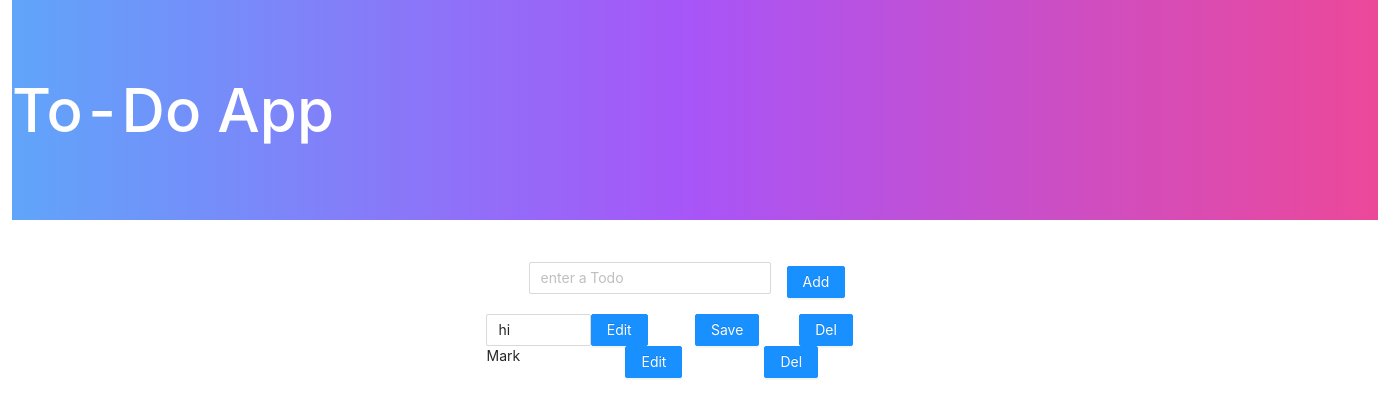
testing my todo app › should delete an element when pressing the delete button
This screenshot has width=1378, height=397.
Click the button with test id "del-btn" at (791, 362), box [764,346,818,378]
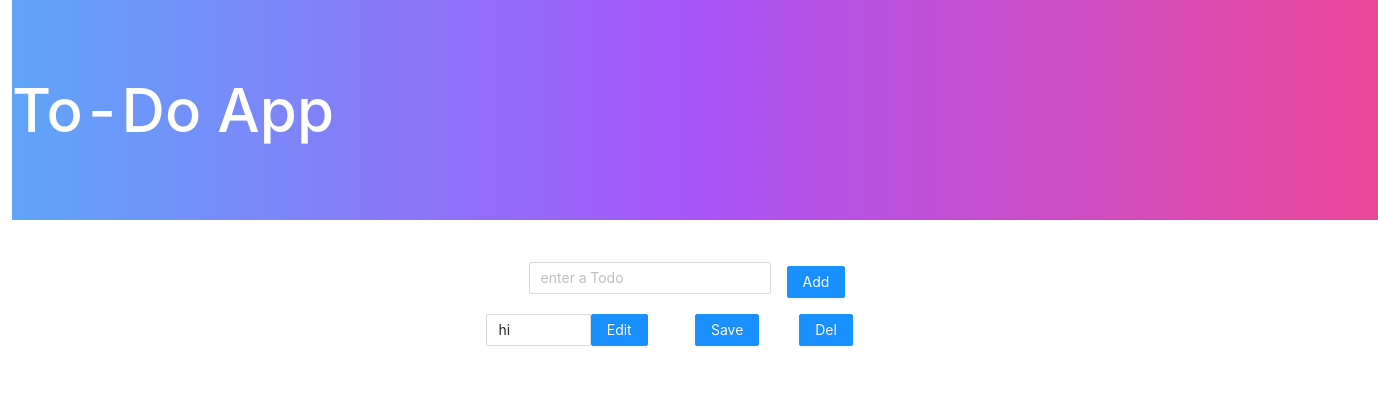
Check: the text with test id "todo-text" is gone
